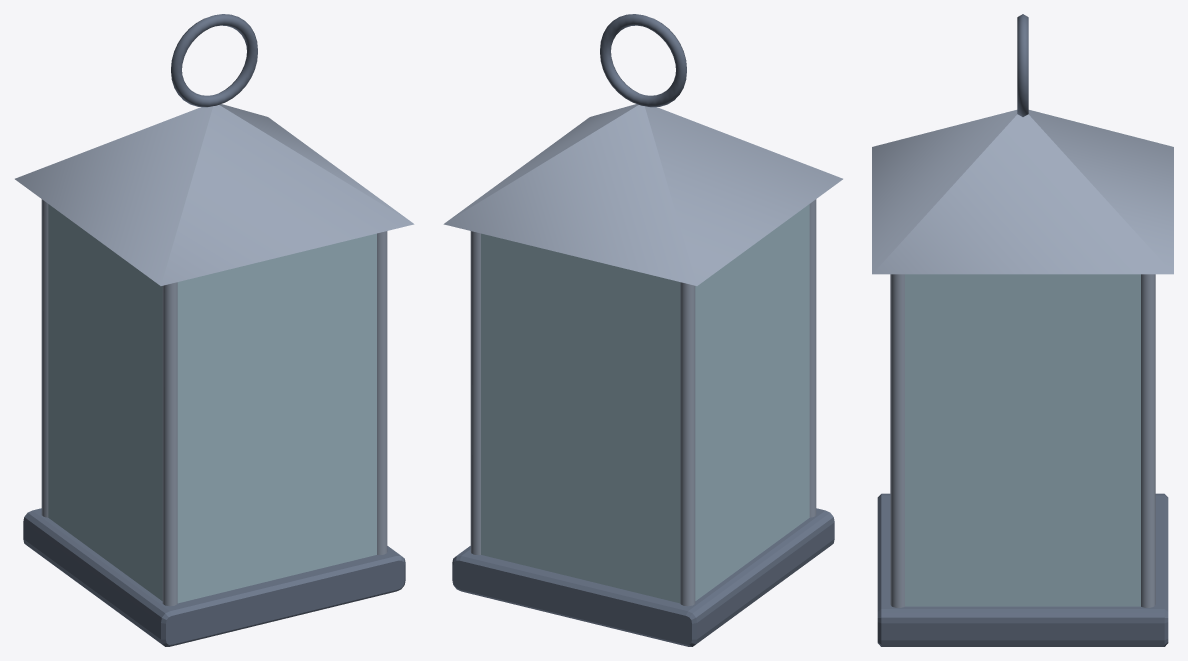
File: decorative-lantern.glb
3 renders of one model, left to right at view 1: azimuth 30°, elevation 25°; view 2: azimuth 150°, elevation 25°; view 3: azimuth 270°, elevation 25°, orthographic. The views are drawn at different scales.
Parts seen in each view (by area): view 1: glass, body, dark; view 2: glass, body, dark; view 3: glass, body, dark.
Part boxes in pixels (x1,y1,x2,y2): glass: (48, 204, 376, 603); body: (15, 104, 414, 606); dark: (23, 14, 405, 646); glass: (481, 204, 809, 603); body: (443, 104, 842, 606); dark: (452, 14, 834, 646); glass: (905, 274, 1140, 606); body: (872, 110, 1173, 607); dark: (877, 14, 1168, 646).
Bounding box in the file's own units: 0.1867 × 0.389 × 0.1867.
